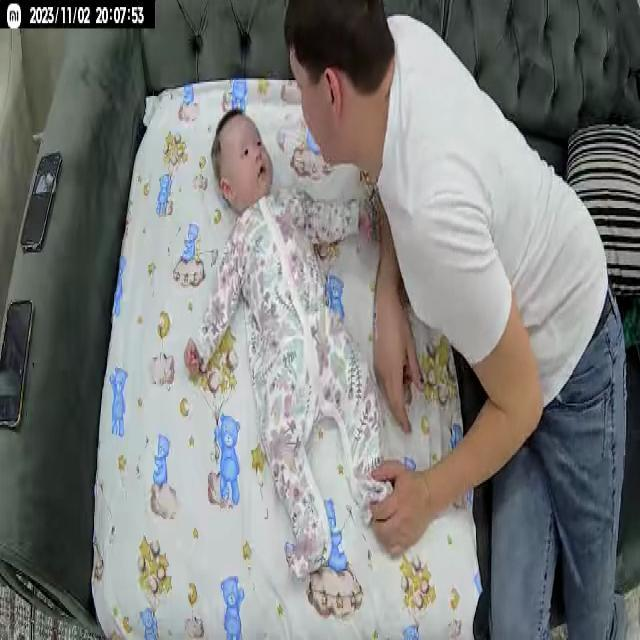baby: (183, 105, 404, 582)
